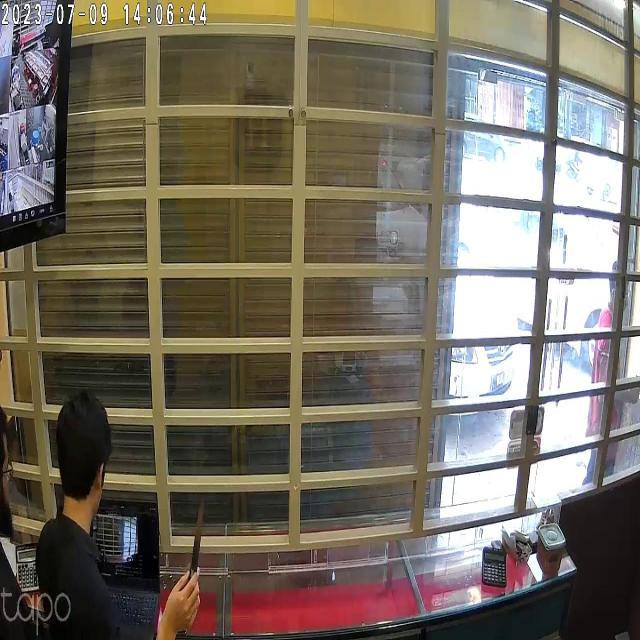Knife: (185, 492, 221, 576)
